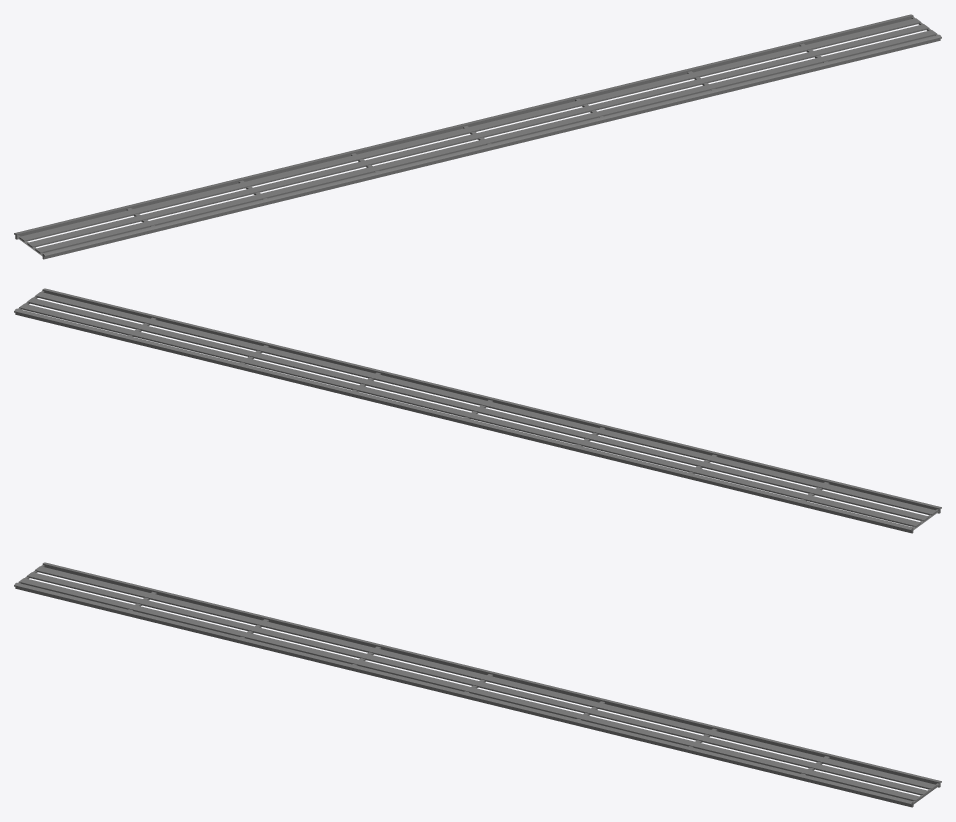
Rendered from tesla_structure_catwalk_02_norail.dae.
3 views of the same model, one above another, from view 1: azimuth 30°, elevation 25°; view 2: azimuth 150°, elevation 25°; view 3: azimuth 330°, elevation 25° (orthographic).
Parts seen in each view (by area): view 1: tesla_structure_catwalk_02_norail; view 2: tesla_structure_catwalk_02_norail; view 3: tesla_structure_catwalk_02_norail.
Part boxes in pixels (box(x1,y1,x2,y2)): tesla_structure_catwalk_02_norail: box(14, 14, 941, 259); tesla_structure_catwalk_02_norail: box(14, 288, 941, 533); tesla_structure_catwalk_02_norail: box(14, 562, 941, 807).
Size of what is drawn, in the model's own units: 40.01 by 0.2261 by 2.4.
